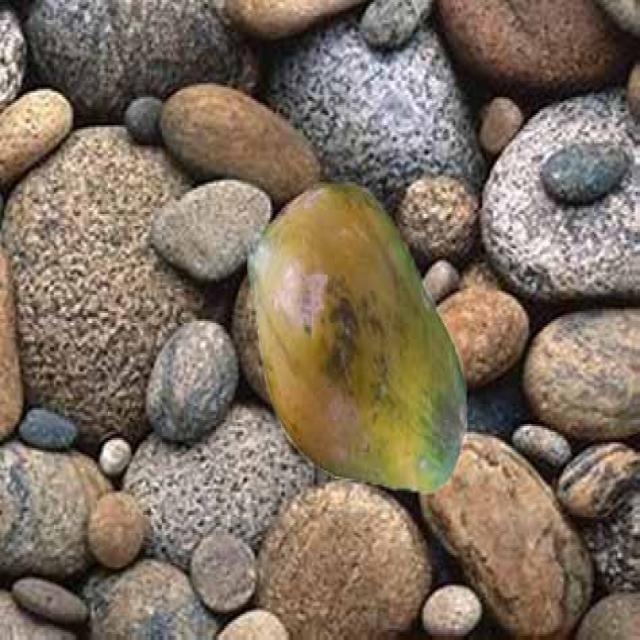Pepaya rippen: (236, 164, 474, 508)
